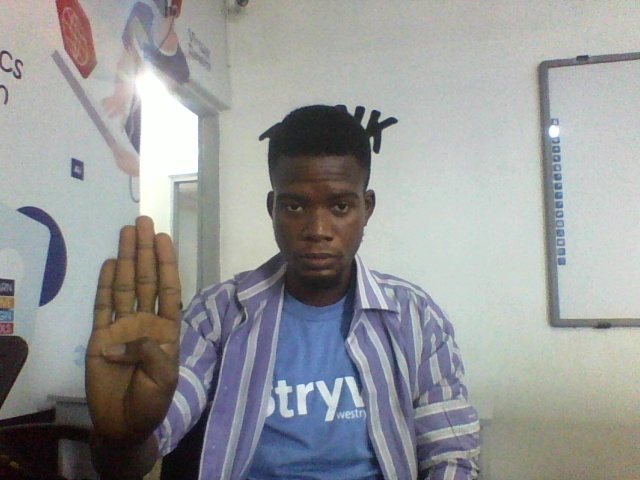hello: (78, 210, 187, 466)
